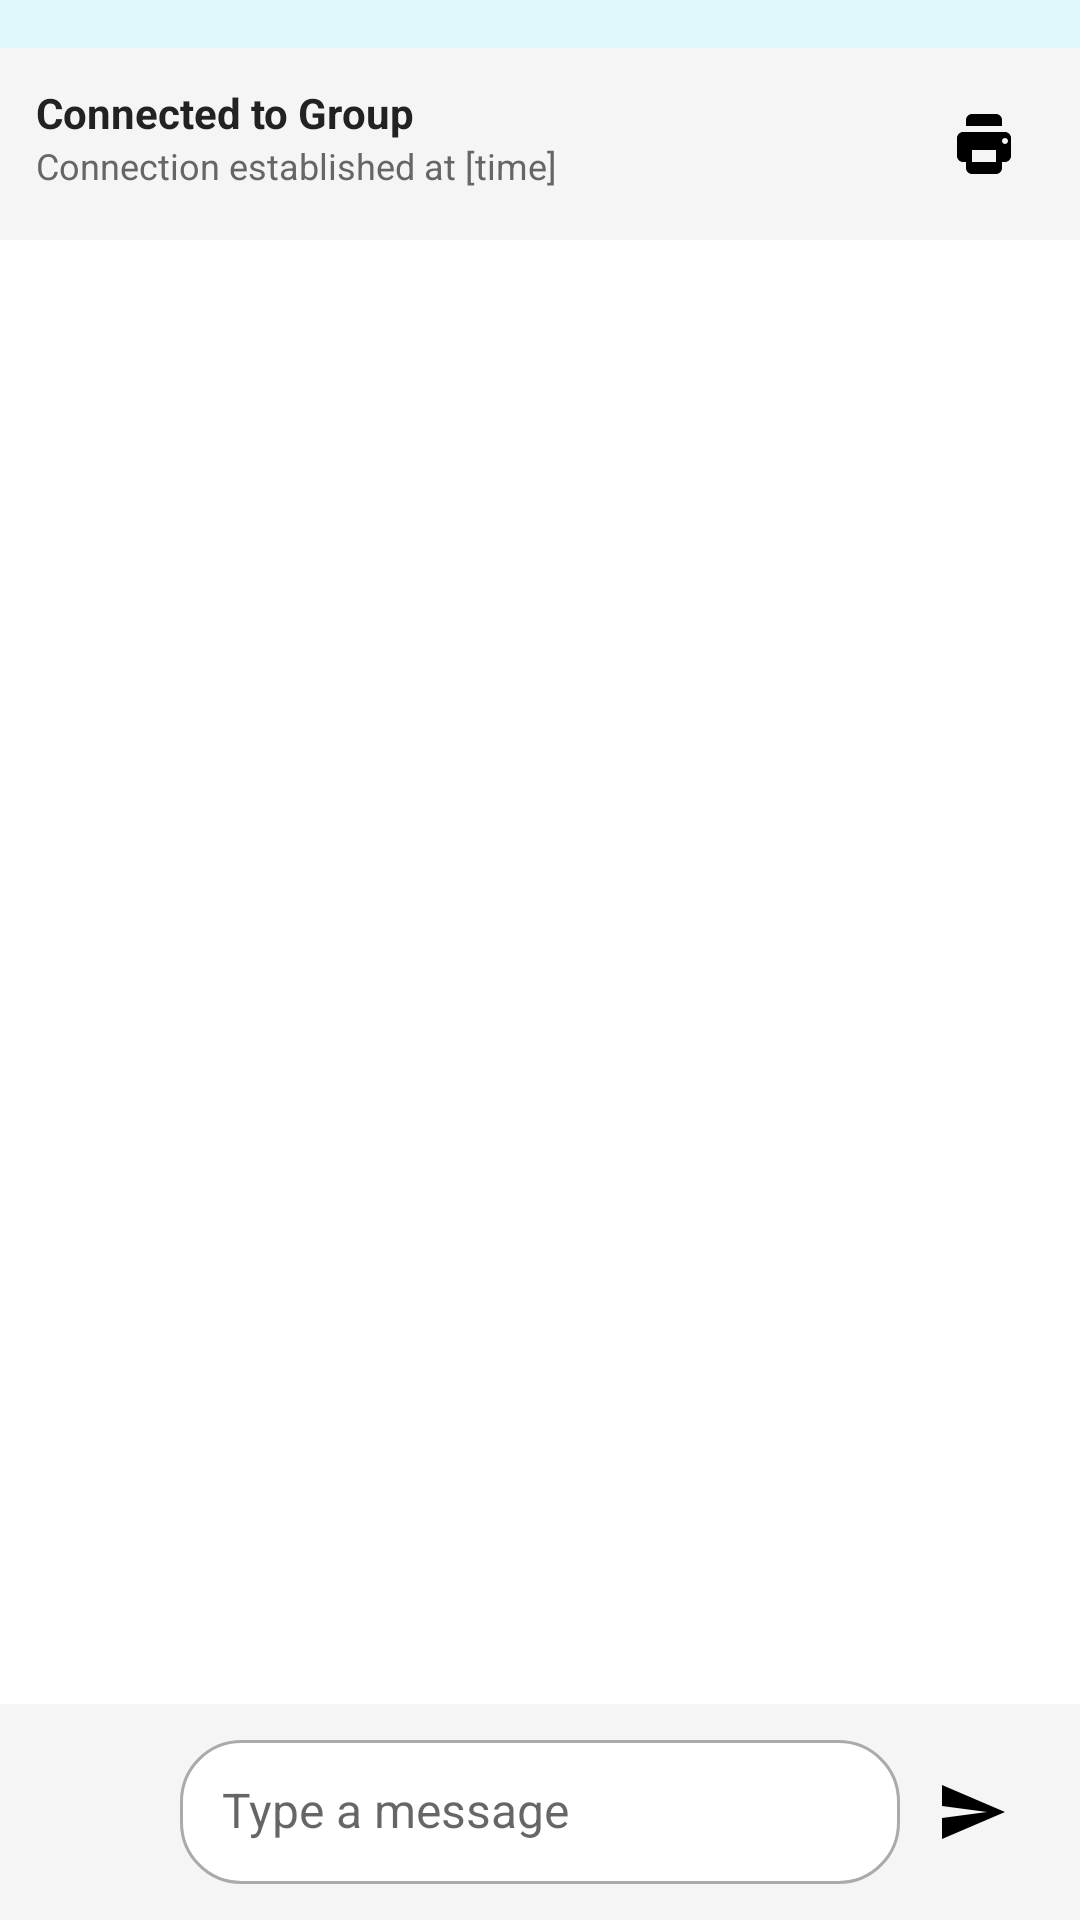

Screen size 1080px×1920px. Icon name, then its center in pixels as (x=x, y=y):
Send Message: (x=973, y=1812)
